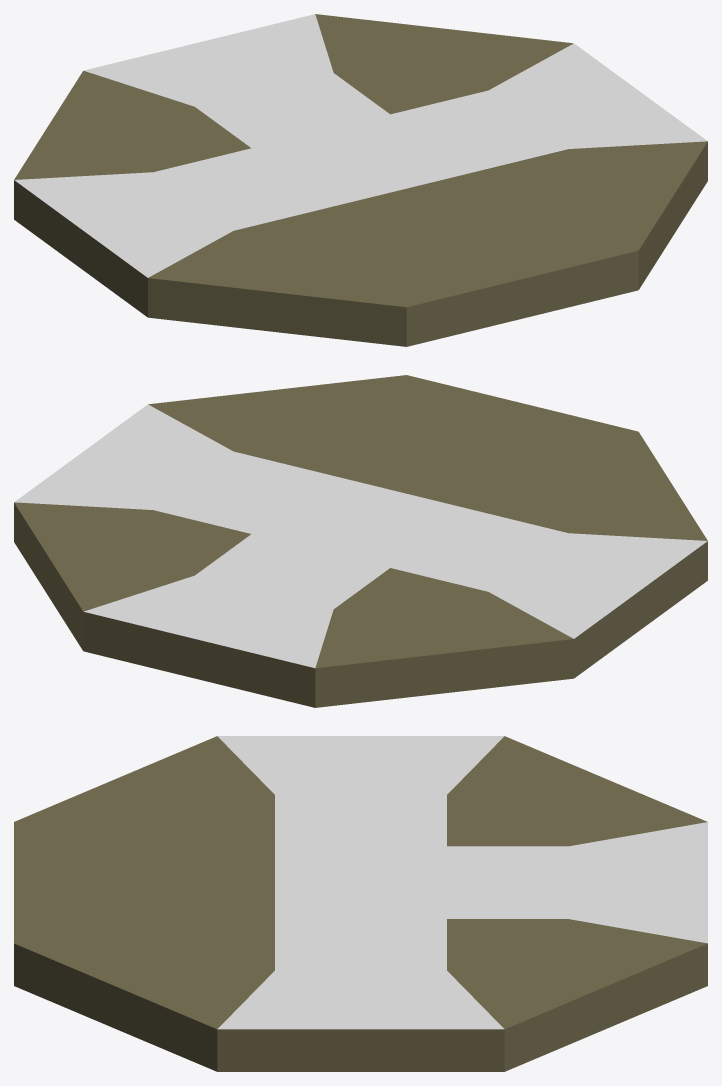
Rendered from KrackenPlatform.glb.
The picture shows the model from 3 angles, top to bottom: view 1: azimuth 30°, elevation 25°; view 2: azimuth 150°, elevation 25°; view 3: azimuth 270°, elevation 25°; orthographic projection. The views are drawn at different scales.
Visible parts, largest first — view 1: Cylinder-col; view 2: Cylinder-col; view 3: Cylinder-col.
Part boxes in pixels (x1,y1,x2,y2): Cylinder-col: (14,14,707,346); Cylinder-col: (14,375,707,707); Cylinder-col: (14,736,707,1071).
Size of the model in its own units: 14.78 by 1 by 14.78.
